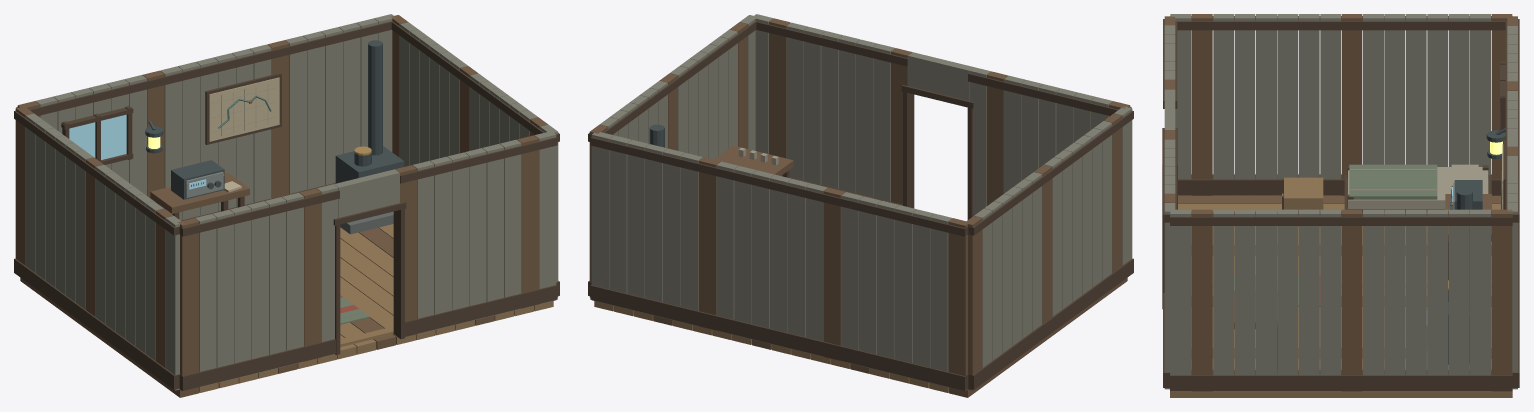
Rendered from keeper_cabin.glb.
3 views of the same model, side by side, from view 1: azimuth 30°, elevation 25°; view 2: azimuth 150°, elevation 25°; view 3: azimuth 270°, elevation 25° (orthographic). The views are drawn at different scales.
Visible parts, largest first — view 1: Wall_South, Wall_North, Wall_West, Wall_East, Floor, Furniture; view 2: Wall_North, Wall_South, Wall_West, Wall_East, Floor, Furniture; view 3: Wall_East, Wall_West, Furniture, Floor, Wall_North, Wall_South.
Part boxes in pixels (x1=…): Wall_South: x1=178, y1=132, x2=557, y2=391; Wall_North: x1=16, y1=14, x2=395, y2=221; Wall_West: x1=14, y1=107, x2=182, y2=390; Wall_East: x1=390, y1=15, x2=559, y2=296; Floor: x1=20, y1=224, x2=553, y2=397; Furniture: x1=150, y1=40, x2=404, y2=234; Wall_North: x1=590, y1=132, x2=969, y2=391; Wall_South: x1=753, y1=14, x2=1131, y2=219; Wall_West: x1=967, y1=106, x2=1133, y2=390; Wall_East: x1=588, y1=15, x2=757, y2=296; Floor: x1=594, y1=278, x2=1127, y2=397; Furniture: x1=649, y1=124, x2=793, y2=177; Wall_East: x1=1170, y1=209, x2=1512, y2=391; Wall_West: x1=1170, y1=14, x2=1512, y2=195; Furniture: x1=1234, y1=164, x2=1491, y2=369; Floor: x1=1170, y1=195, x2=1512, y2=397; Wall_North: x1=1486, y1=16, x2=1519, y2=389; Wall_South: x1=1162, y1=16, x2=1177, y2=389.
Bounding box in the file's own units: 6.34 × 2.73 × 4.75.
